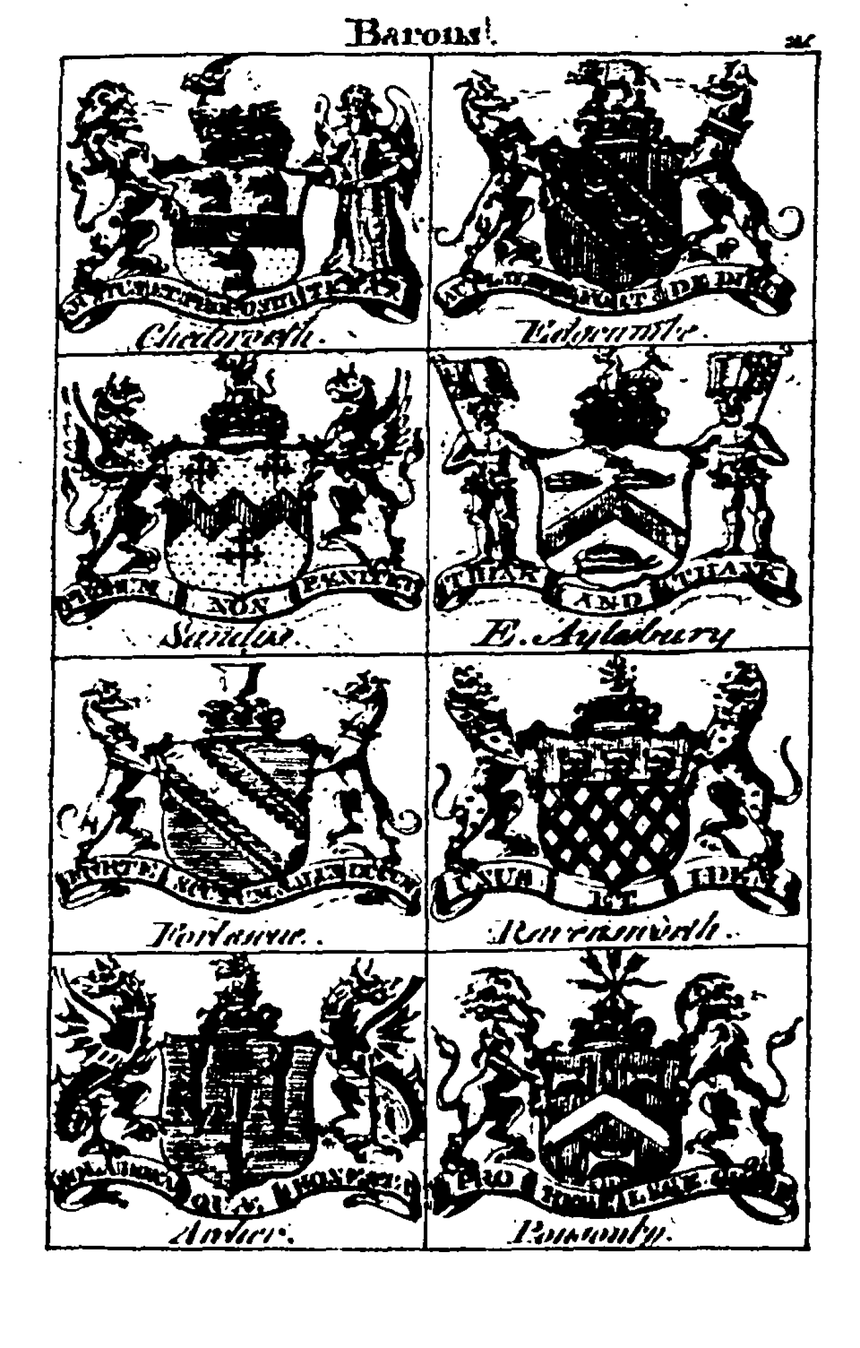coat_of_arms: (429, 353, 801, 648), (436, 961, 807, 1249), (48, 965, 416, 1244), (438, 652, 794, 940), (56, 662, 413, 949), (63, 364, 424, 644), (445, 67, 796, 345), (75, 68, 427, 342)
